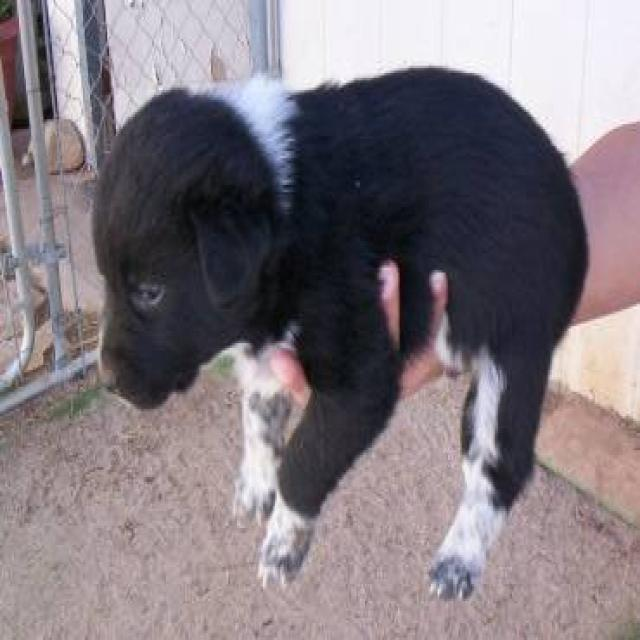dog: (90, 63, 590, 601)
